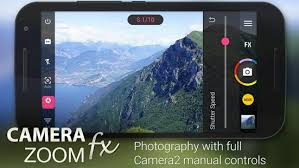camera: (234, 59, 258, 86)
